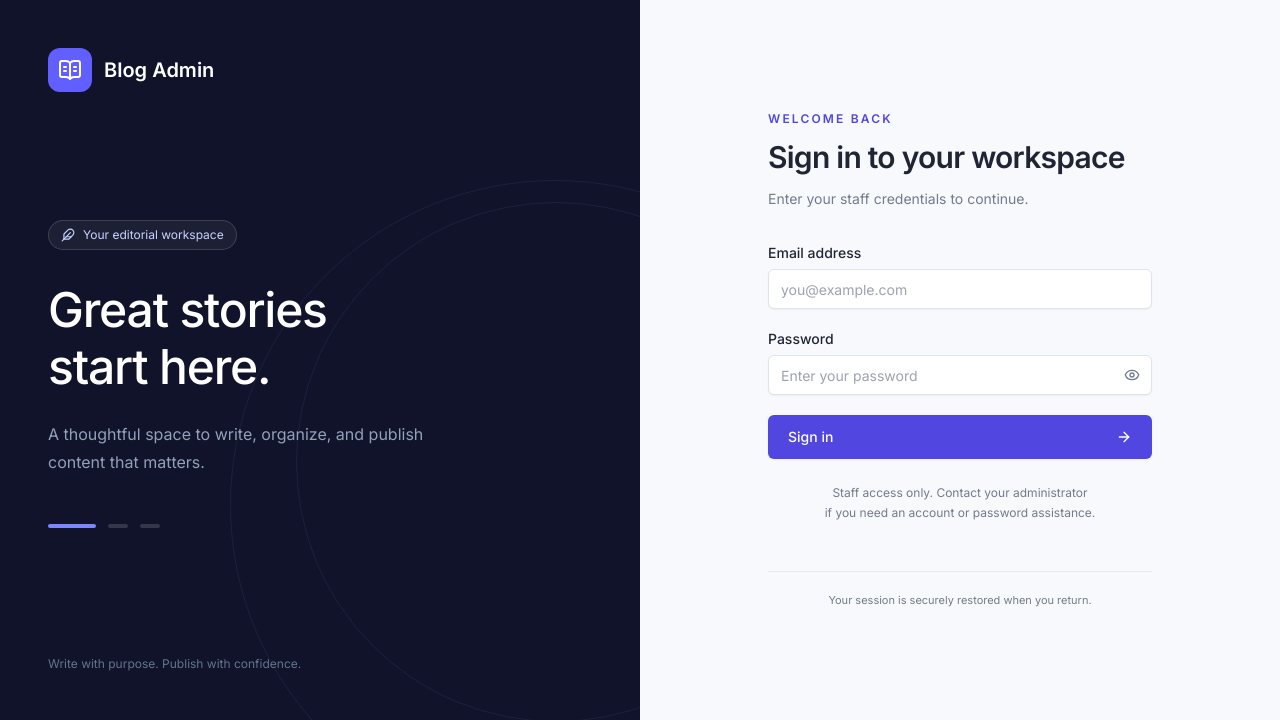
Test: contract-based CRUD workflows › creates and deletes a tag using real screen controls and confirmations
Step 1. Type "alex@example.test" into the field labelled "Email address" → x=960, y=289, box [768,269,1152,309]
Step 2. Type "a-secure-password" into the password field labelled "Password" → x=960, y=375, box [768,355,1152,395]
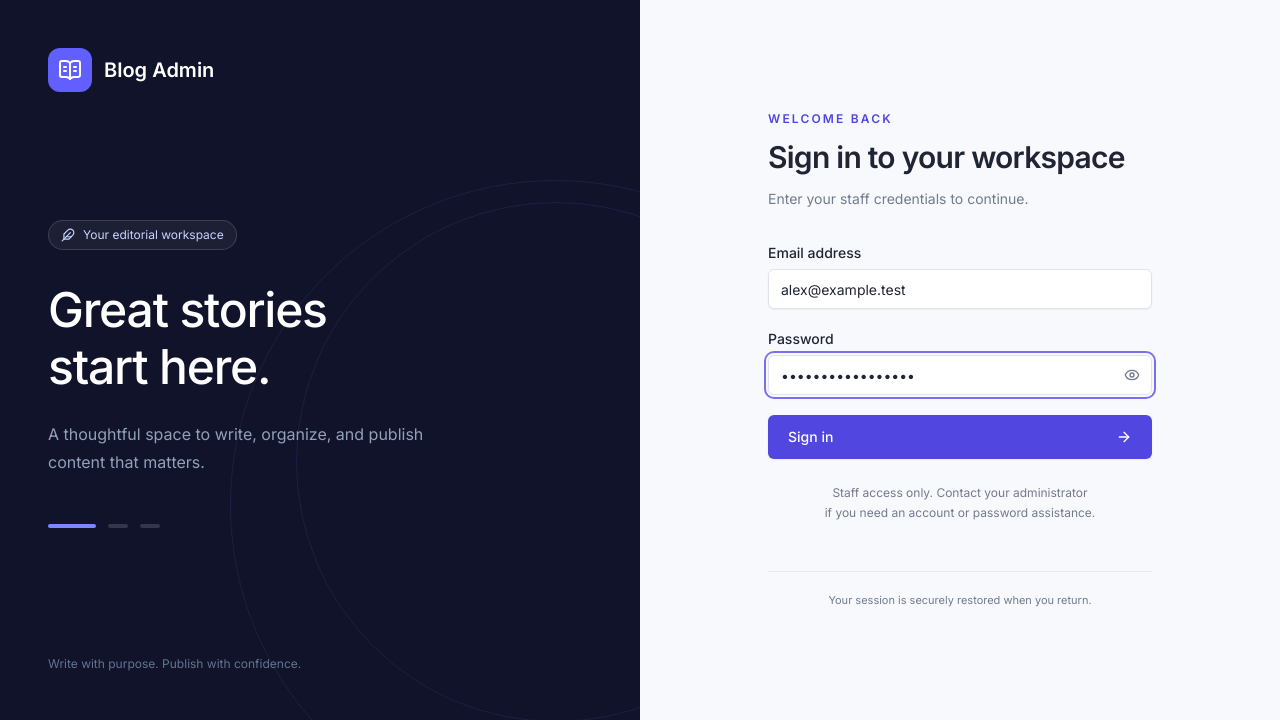
Step 3. Click the button "Sign in" → x=811, y=437, box [768,415,1152,459]
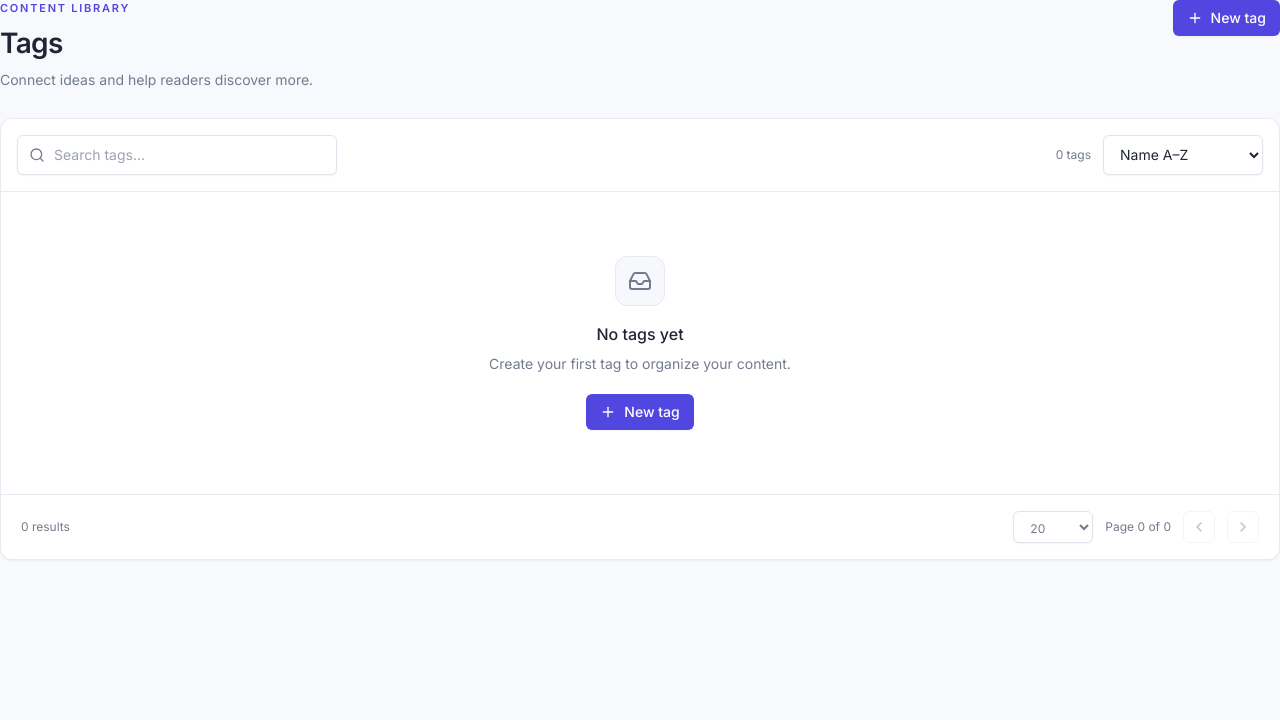
Step 4. Click the button "New tag" in the row of "Content library" → x=1226, y=18, box [1173,0,1279,36]
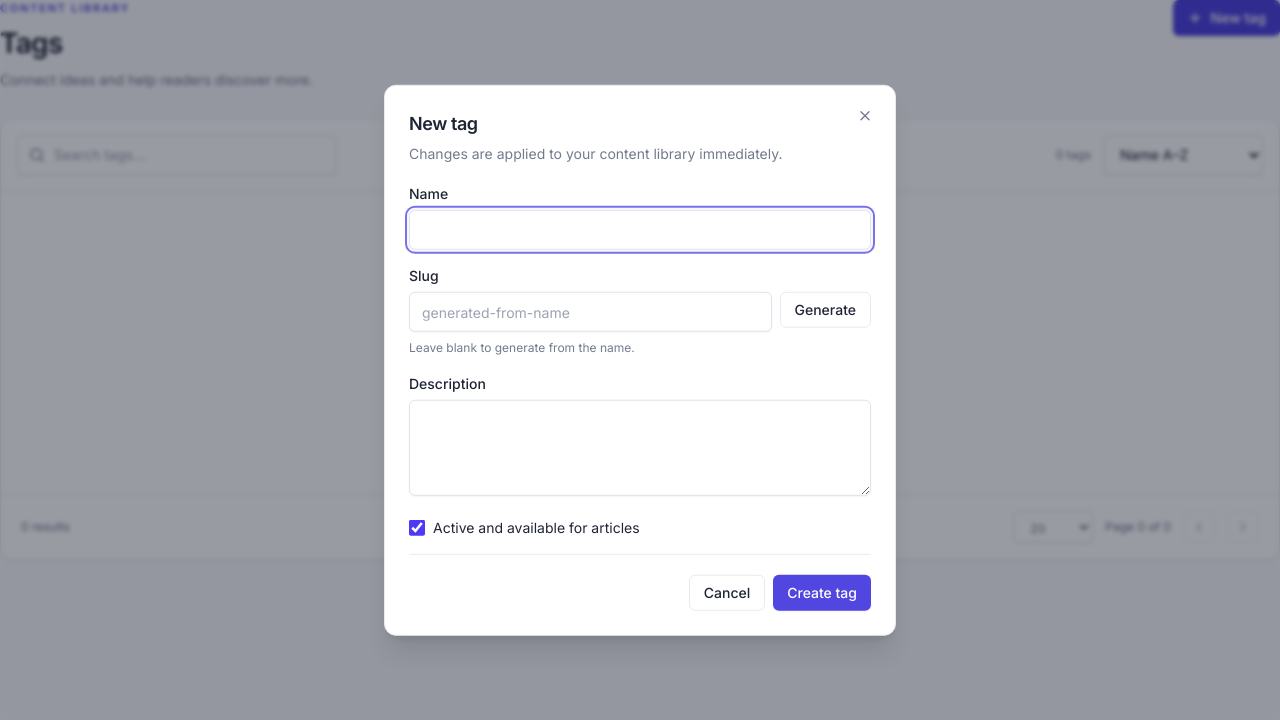
Step 5. Type "Hardware" into the field labelled "Name" → x=640, y=230, box [409,210,871,250]
Step 6. Click the button "Create tag" → x=822, y=592, box [773,574,871,610]
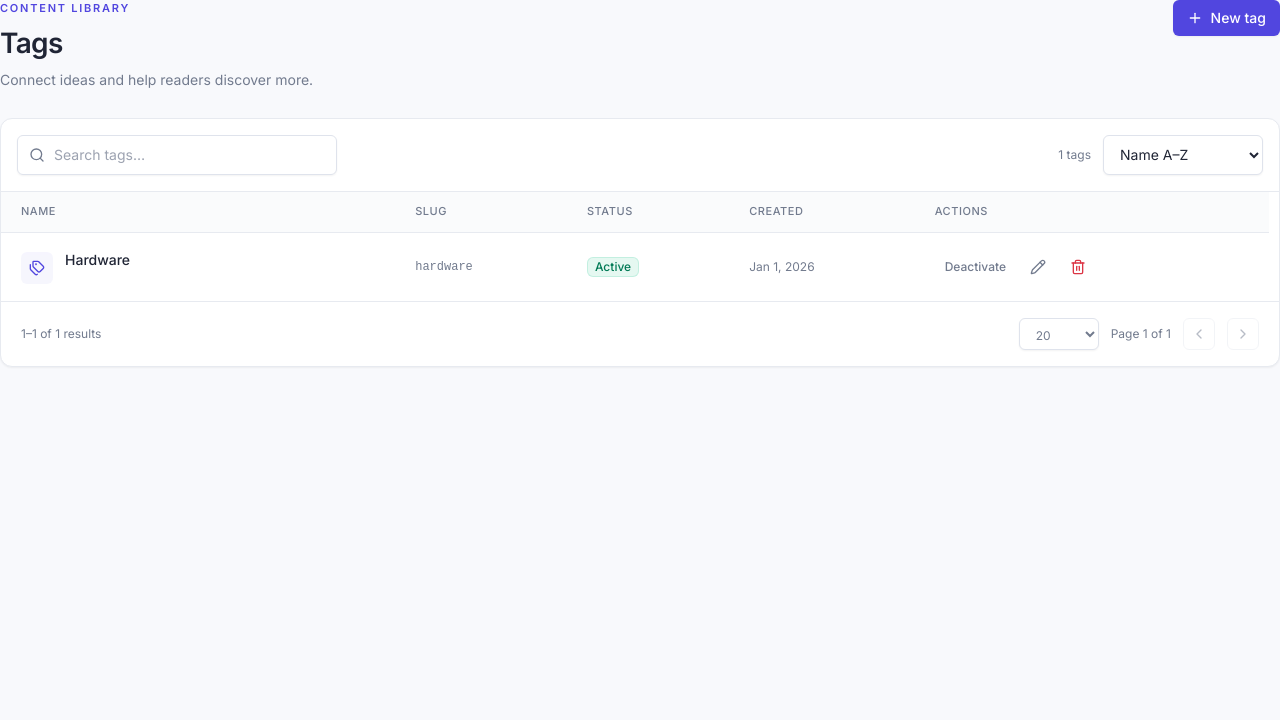
Expected: the text "Hardware" is shown, [65,250,130,268]
Step 7. Click the button named "Delete Hardware" → x=1078, y=266, box [1060,248,1096,284]
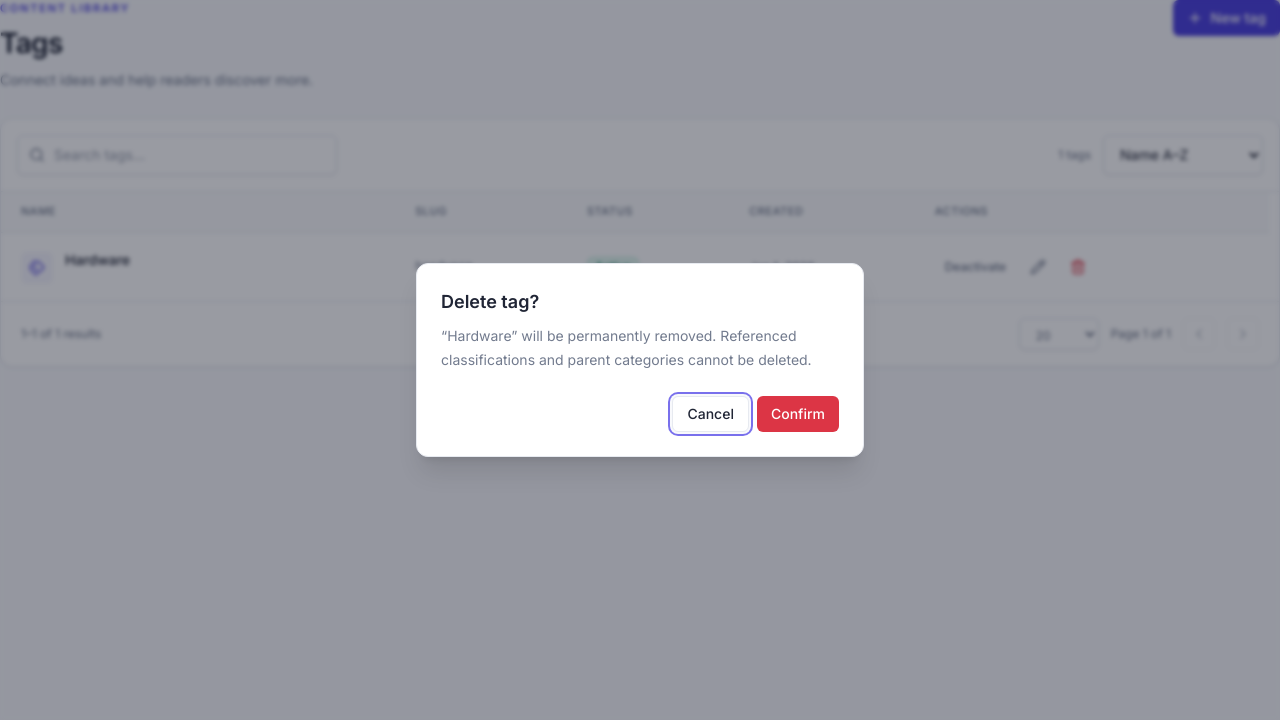
Step 8. Click the button "Confirm" → x=798, y=414, box [757,396,839,432]
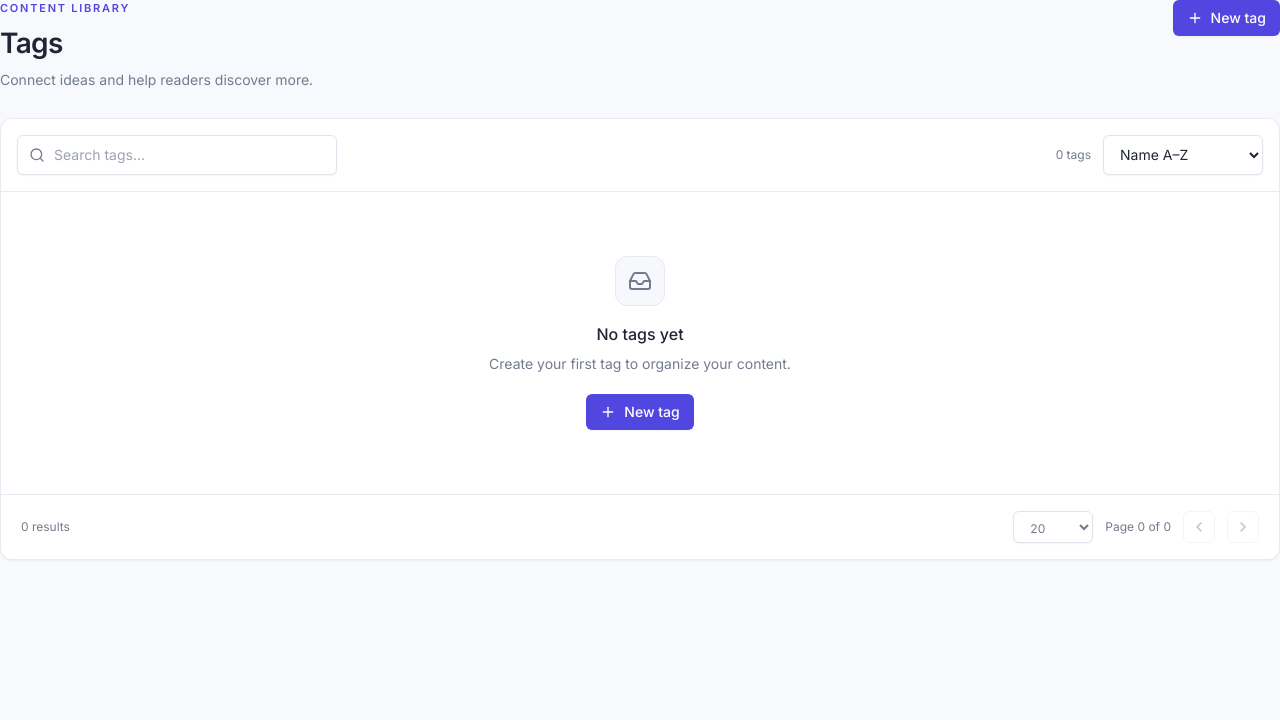
Expected: the text "Hardware" is gone
